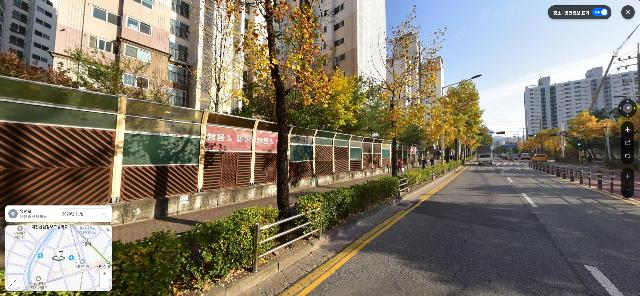ginkgo: (209, 0, 346, 244), (363, 10, 454, 177), (440, 80, 484, 165), (317, 65, 372, 132), (422, 96, 460, 167), (568, 110, 616, 162), (534, 127, 564, 159)
other: (186, 0, 255, 113), (60, 43, 143, 96)
